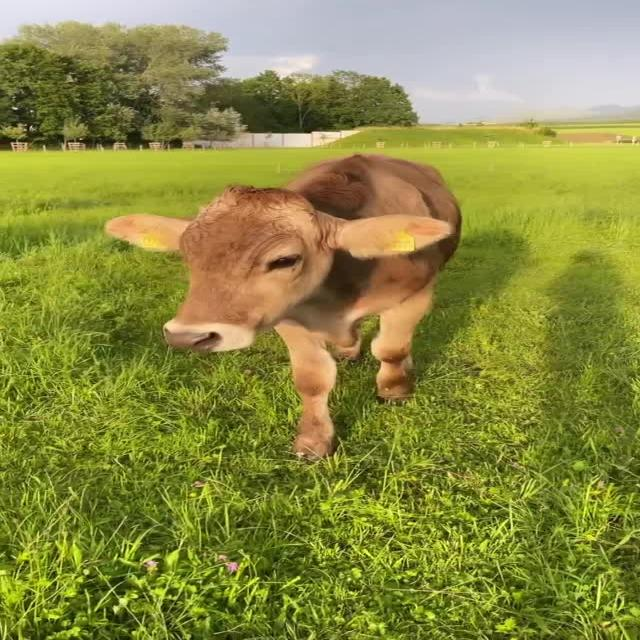cowFace: (84, 178, 464, 358)
